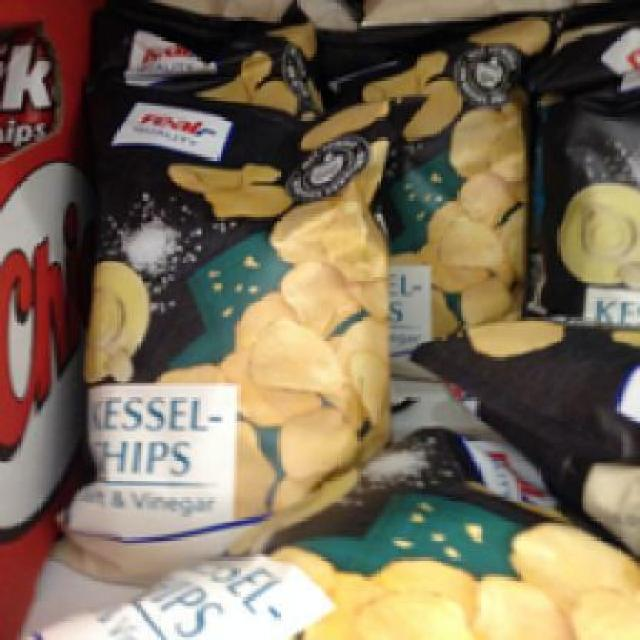Chips: (63, 92, 391, 577)
